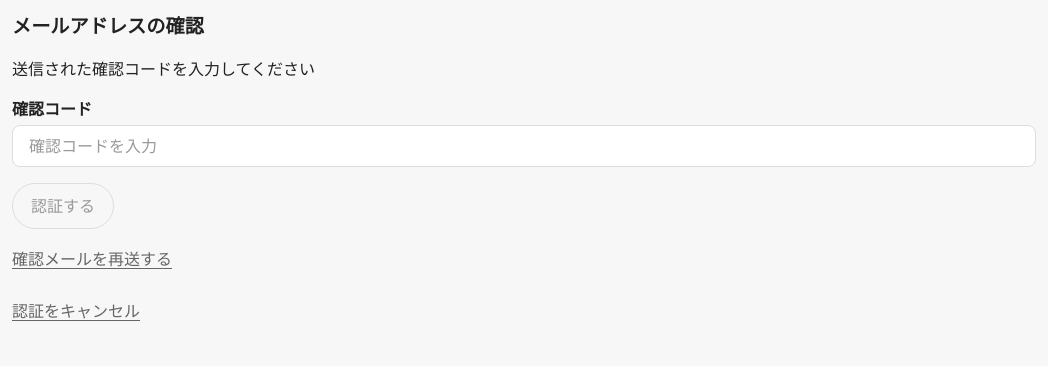
Scenario: CloudSyncAccountOtpVerificationForm › 確認コードを 6 文字未満にして離れるとエラーを表示してボタンを無効にする
Expected: the button "認証する" is disabled, [12,183,114,229]
Expected: the text "確認コードは 6 文字で入力してください" is not shown
In the field labelled "確認コード": (524, 146) [12,125,1036,167], type "12345"
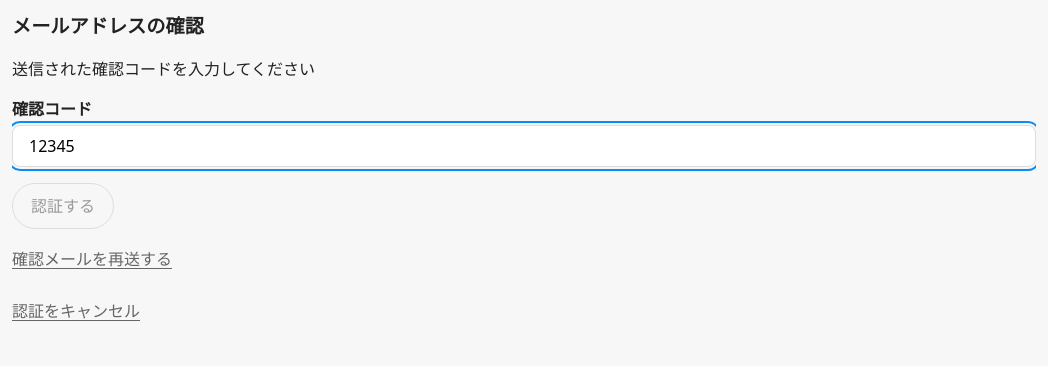
Leave the field labelled "確認コード", box [12,125,1036,167]
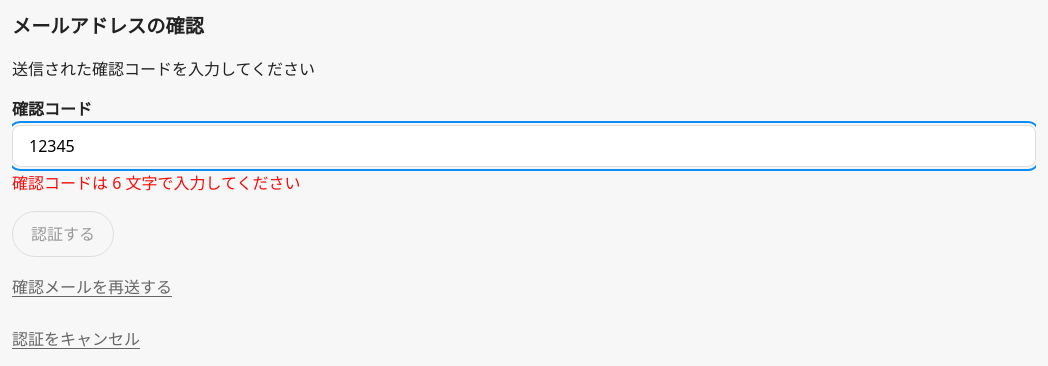
Expected: the button "認証する" is disabled, [12,211,114,257]
Now the text "確認コードは 6 文字で入力してください" is shown, box [12,172,300,194]
